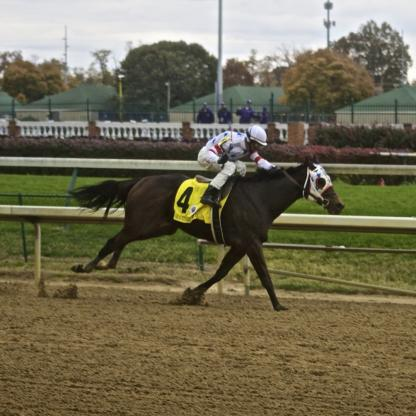Helmet: (246, 123, 266, 151)
